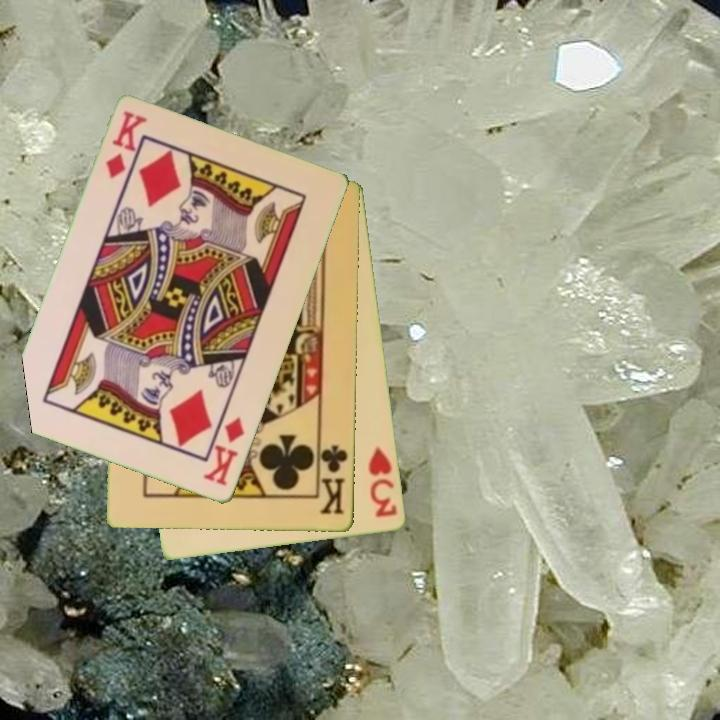3h: (365, 443, 401, 521)
Kc: (316, 437, 351, 518)
Kd: (200, 414, 248, 490), (102, 108, 150, 182)
